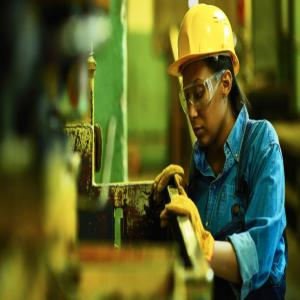yellow: (177, 7, 237, 148)
